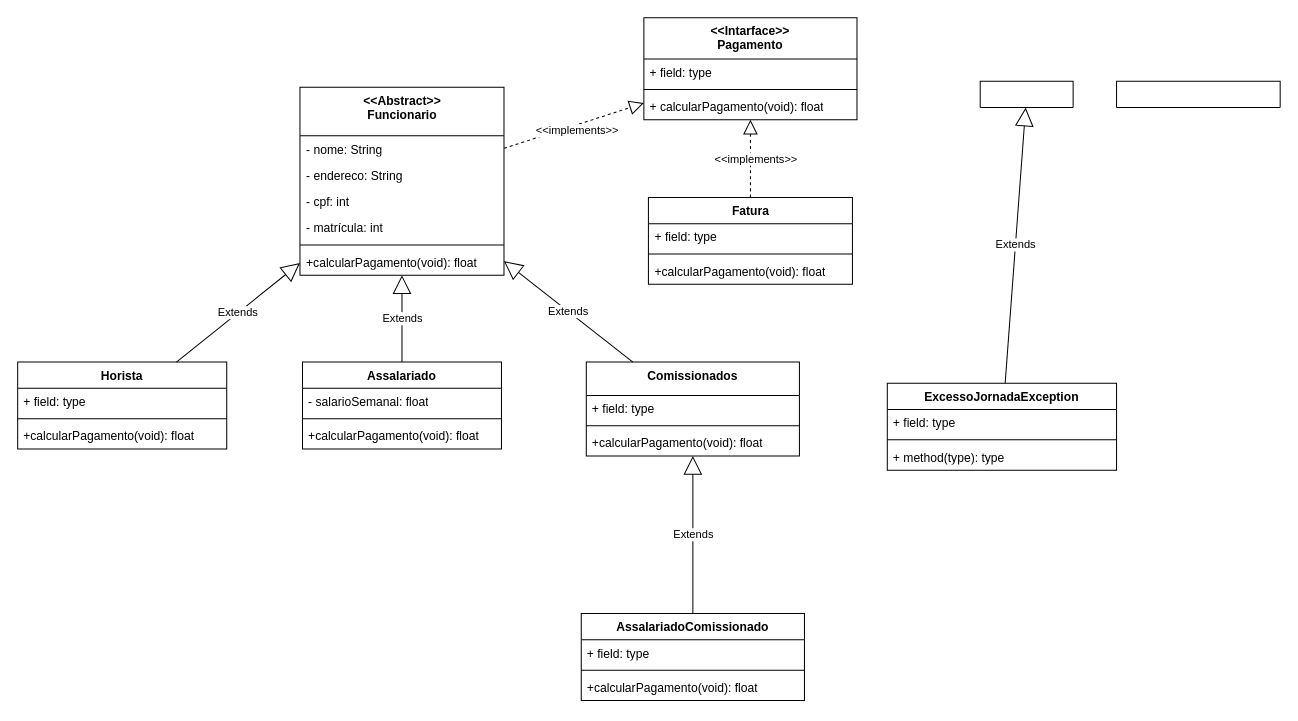
Image size: 1298x721. Some labels were removed from this diagram. Each missing label, with the centre of its shape:
"Exception" belongs at pixel 1026 94.
"RunTimeException" belongs at pixel 1198 94.
